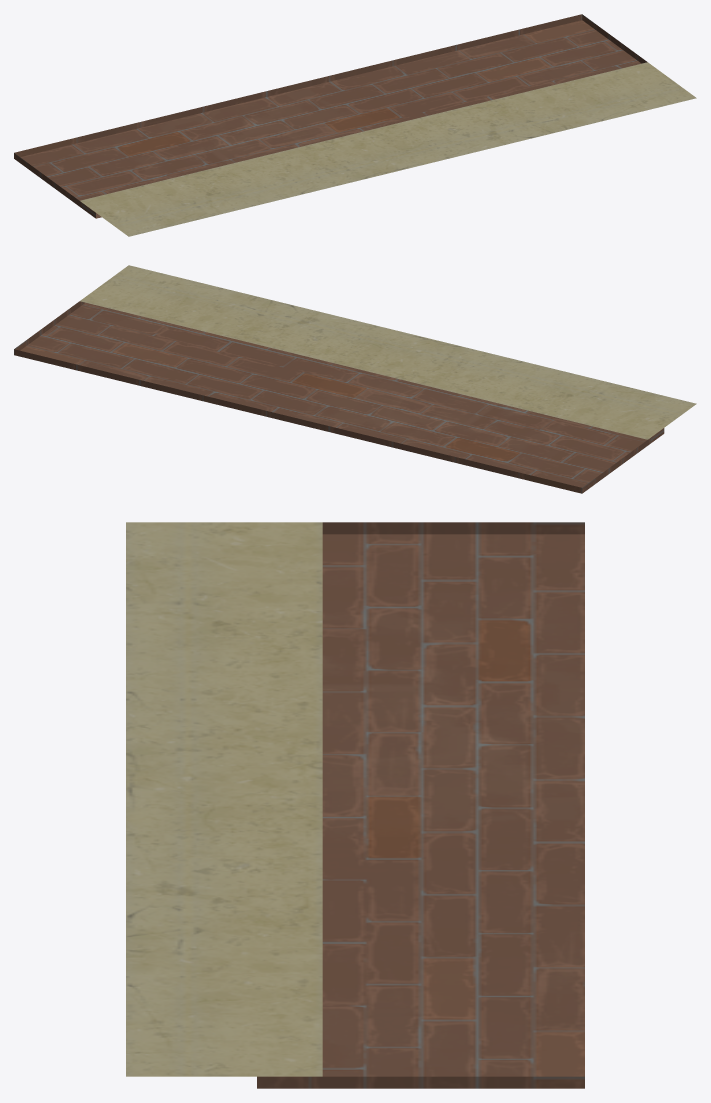
The model's file is q-downtown-trim-90angle-topcover.glb.
3 renders of one model, top to bottom at view 1: azimuth 30°, elevation 25°; view 2: azimuth 150°, elevation 25°; view 3: azimuth 270°, elevation 25°, orthographic. The views are drawn at different scales.
Parts seen in each view (by area): view 1: Trim_90Angle_TopCover; view 2: Trim_90Angle_TopCover; view 3: Trim_90Angle_TopCover.
Boxes of the visible parts, bbox=[...] form: Trim_90Angle_TopCover: bbox=[14, 14, 696, 236]; Trim_90Angle_TopCover: bbox=[14, 265, 696, 493]; Trim_90Angle_TopCover: bbox=[126, 522, 584, 1088].
Bounding box in the file's own units: 2 × 0.02 × 0.7.
Materials: 2 (2 with a texture image).
